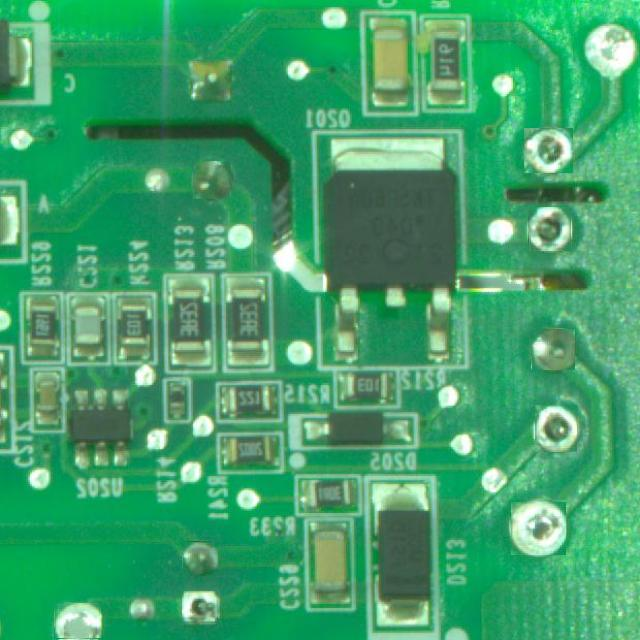oppostie_direction: (510, 501, 566, 555), (525, 129, 573, 173), (535, 406, 577, 452), (531, 328, 575, 370), (529, 208, 571, 250), (54, 604, 102, 637), (193, 161, 230, 199), (182, 541, 218, 574), (182, 591, 218, 623)
